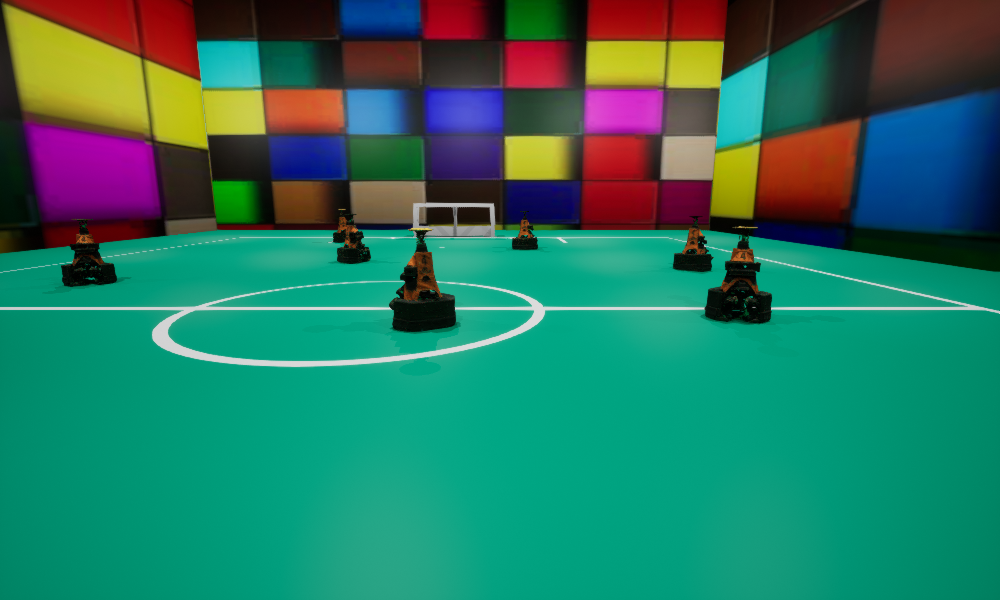0 orange robot TechUnited: (389, 228, 455, 331), (705, 226, 771, 322), (61, 219, 116, 286), (673, 216, 713, 271), (337, 214, 370, 263), (512, 211, 537, 249), (333, 209, 353, 242)
